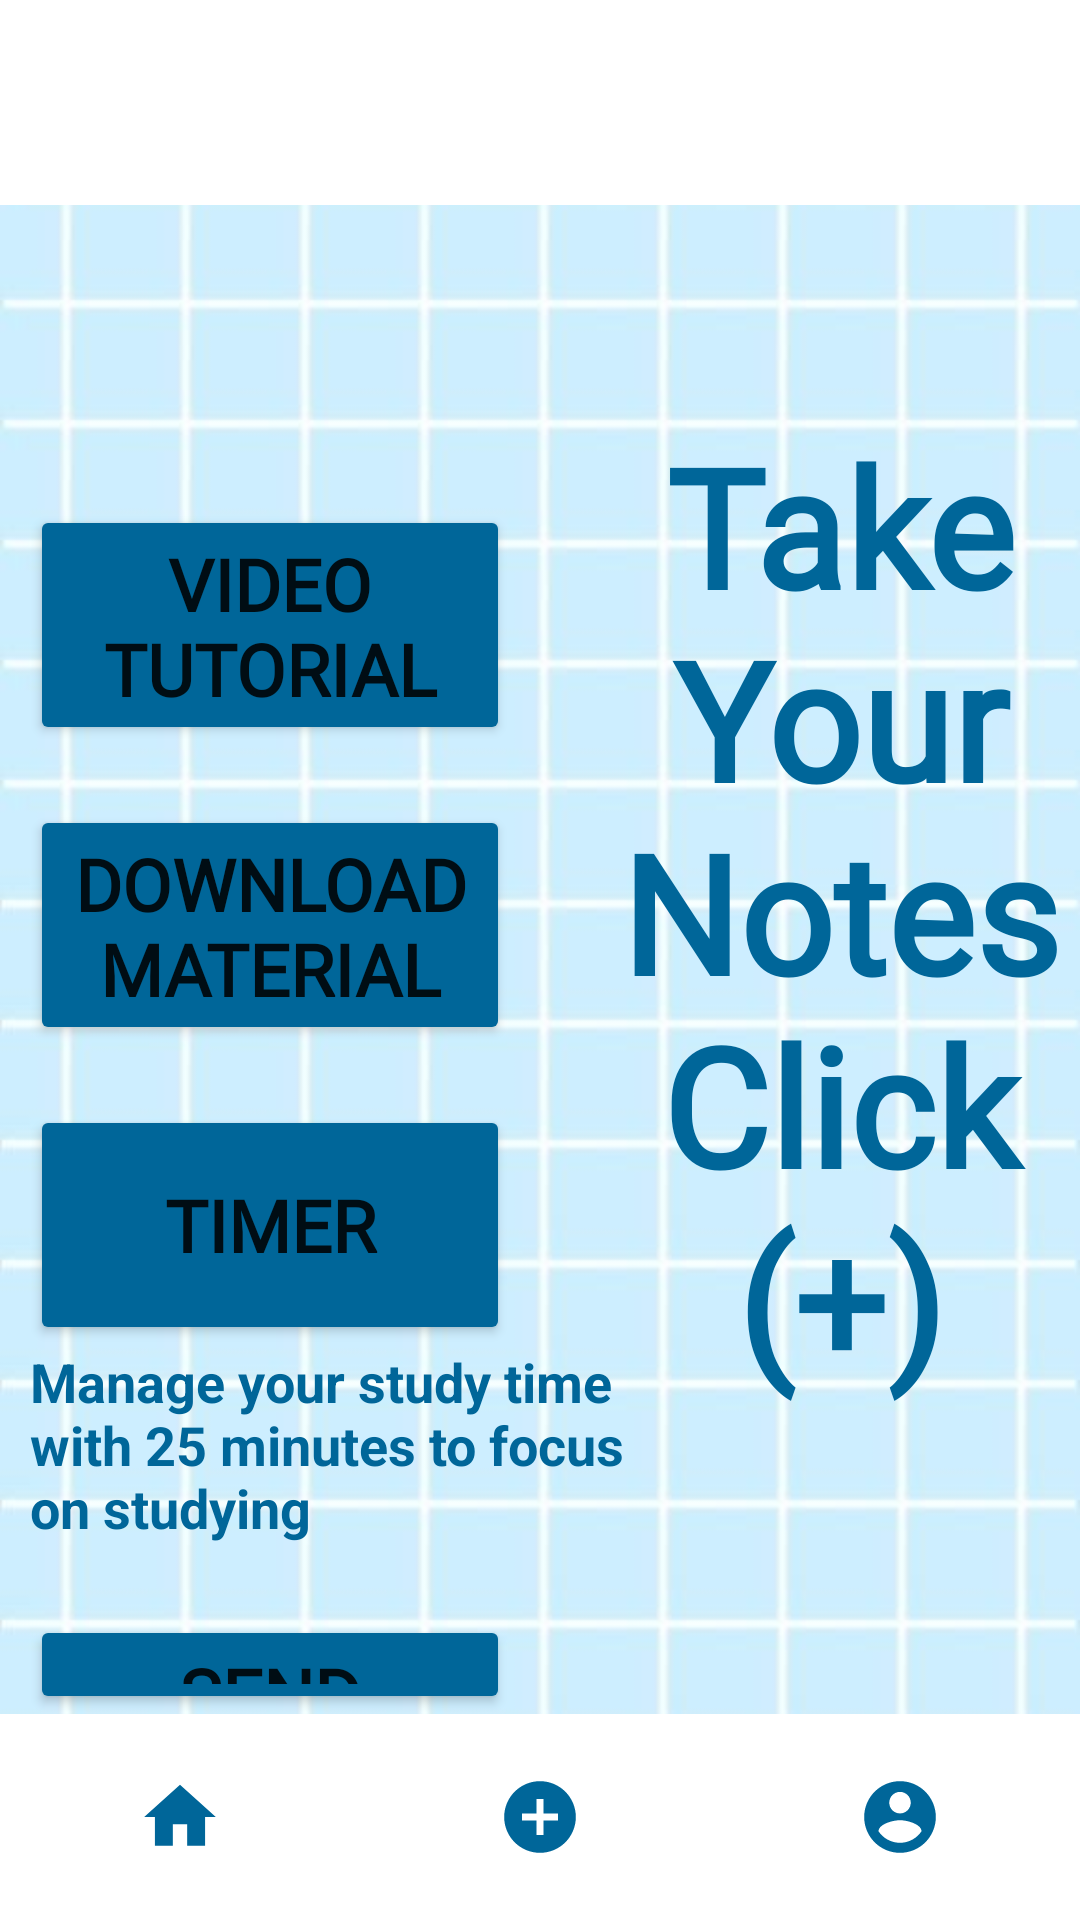

Where icons sit on this 1080 x 1920 app screen, as (x1, y1, x2, y2):
acc: (864, 1781, 936, 1853)
add: (504, 1781, 576, 1853)
home: (144, 1785, 216, 1846)
